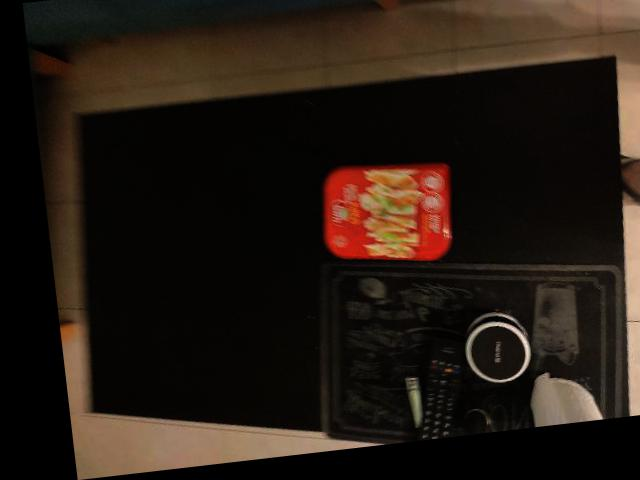cheese: (310, 154, 464, 278)
